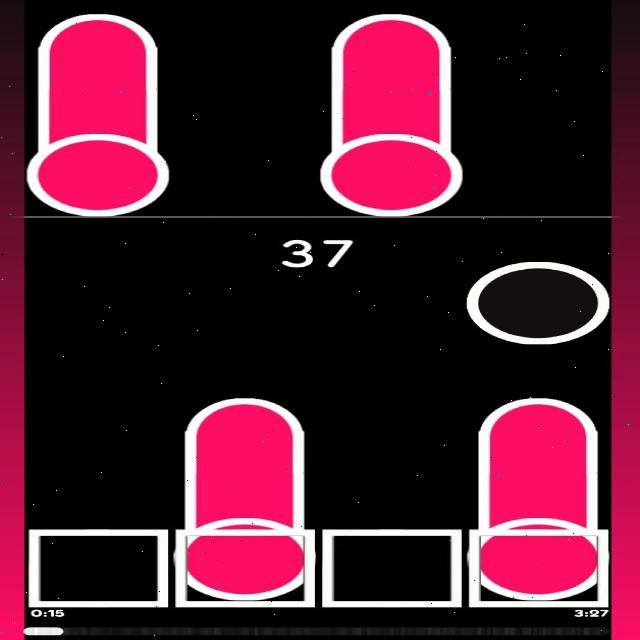end_hold: (185, 388, 302, 439), (332, 6, 450, 53), (482, 388, 594, 437), (41, 7, 153, 50)
note: (464, 257, 611, 345)
start_hold: (26, 109, 173, 215), (319, 115, 464, 216), (467, 502, 608, 602), (174, 501, 310, 602)
